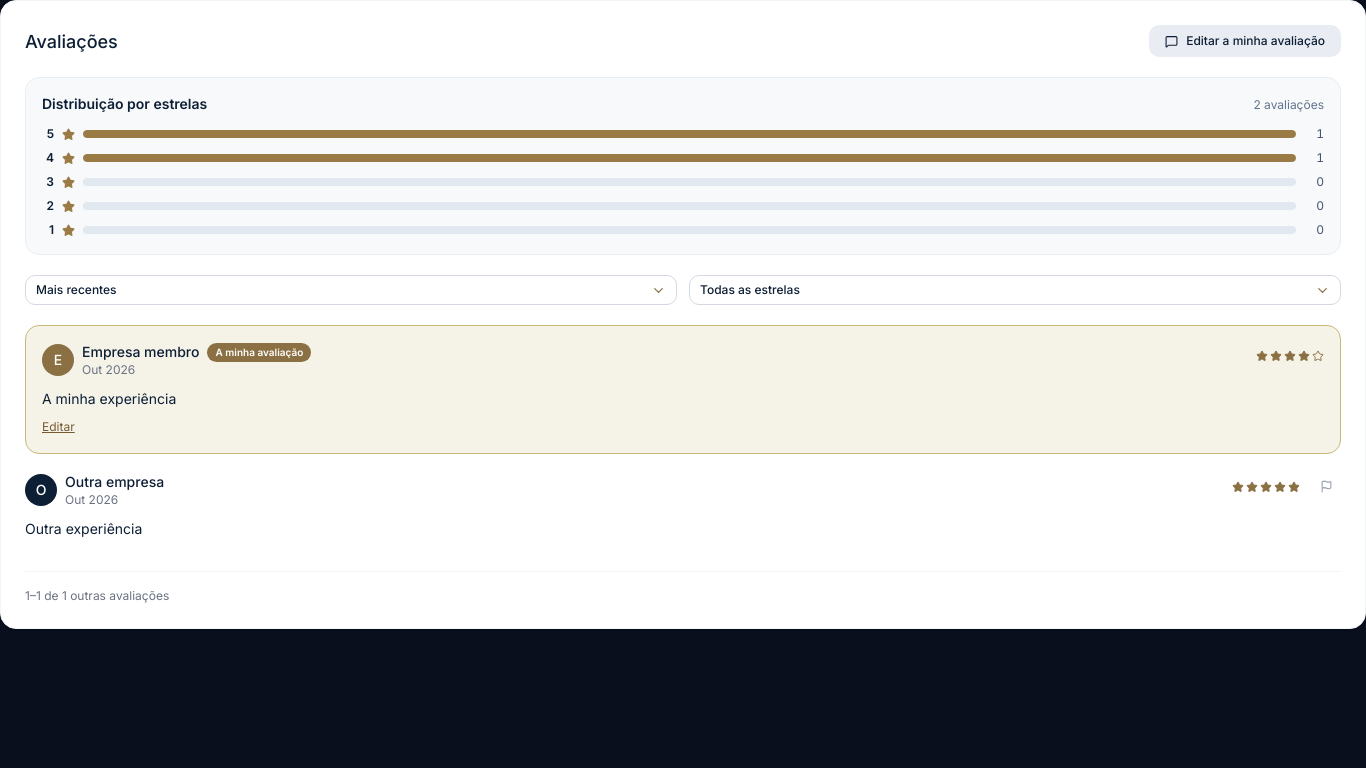
Test: Formulário de avaliação do perfil público › mantém a própria em primeiro ao filtrar e quando a leitura falha
The width and height of the screenshot is (1366, 768).
Expected: the text "A minha avaliação" is shown, [208,342,311,362]
Click the dropdown named "Filtrar por estrelas" at (750, 290), box [689,275,1341,305]
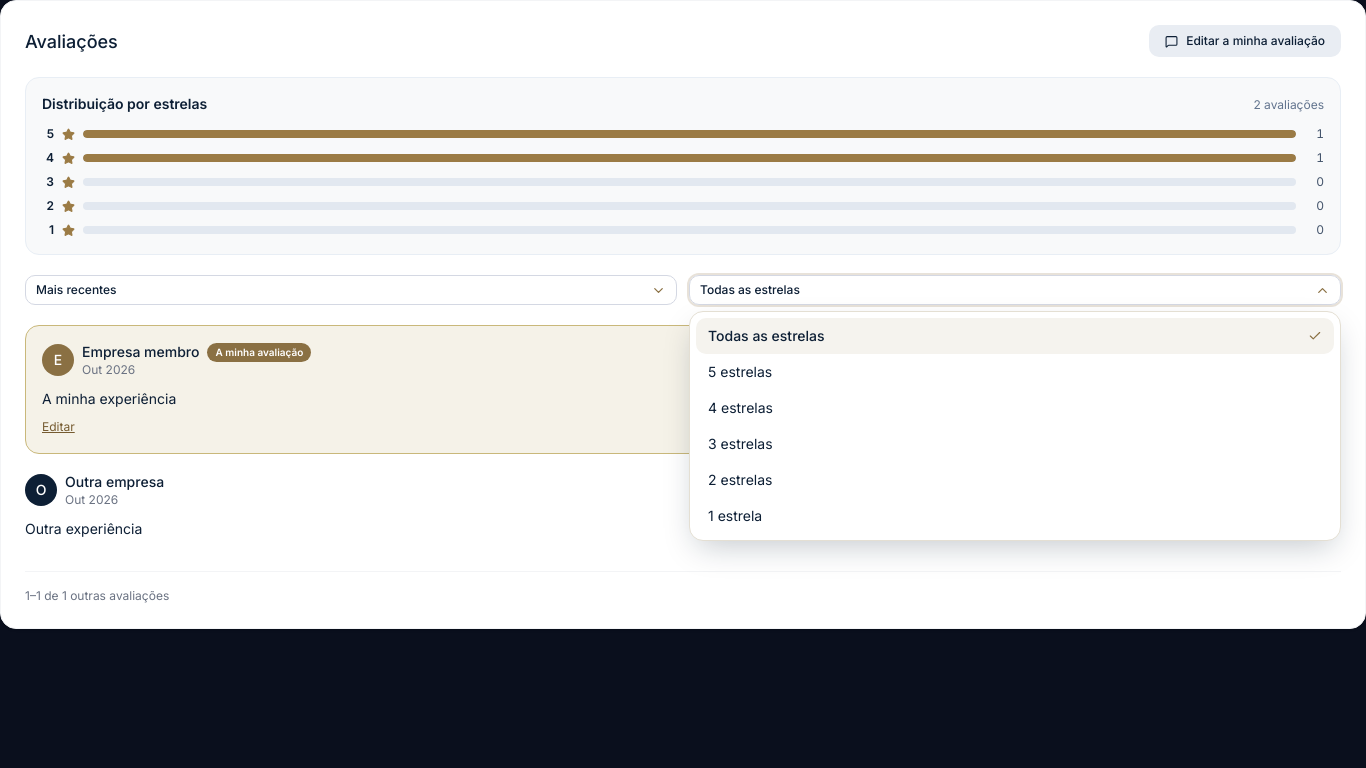
Click the option "5 estrelas" at (740, 372), box [708,363,772,380]
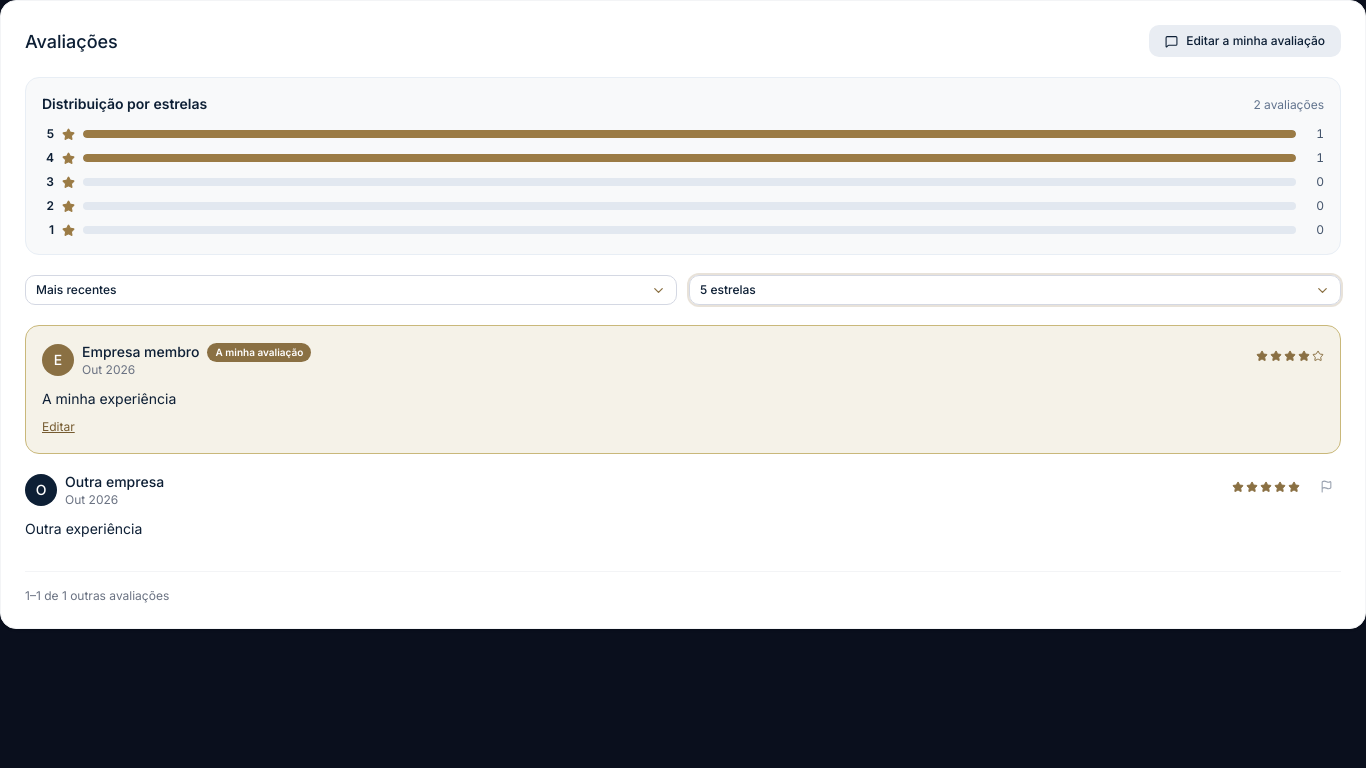
Expected: the button "Editar" is shown, [42,419,75,435]
Expected: the list item "A minha avaliação" is shown, [216,346,303,358]
Click the dropdown named "Ordenar avaliações" at (76, 290), box [25,275,677,305]
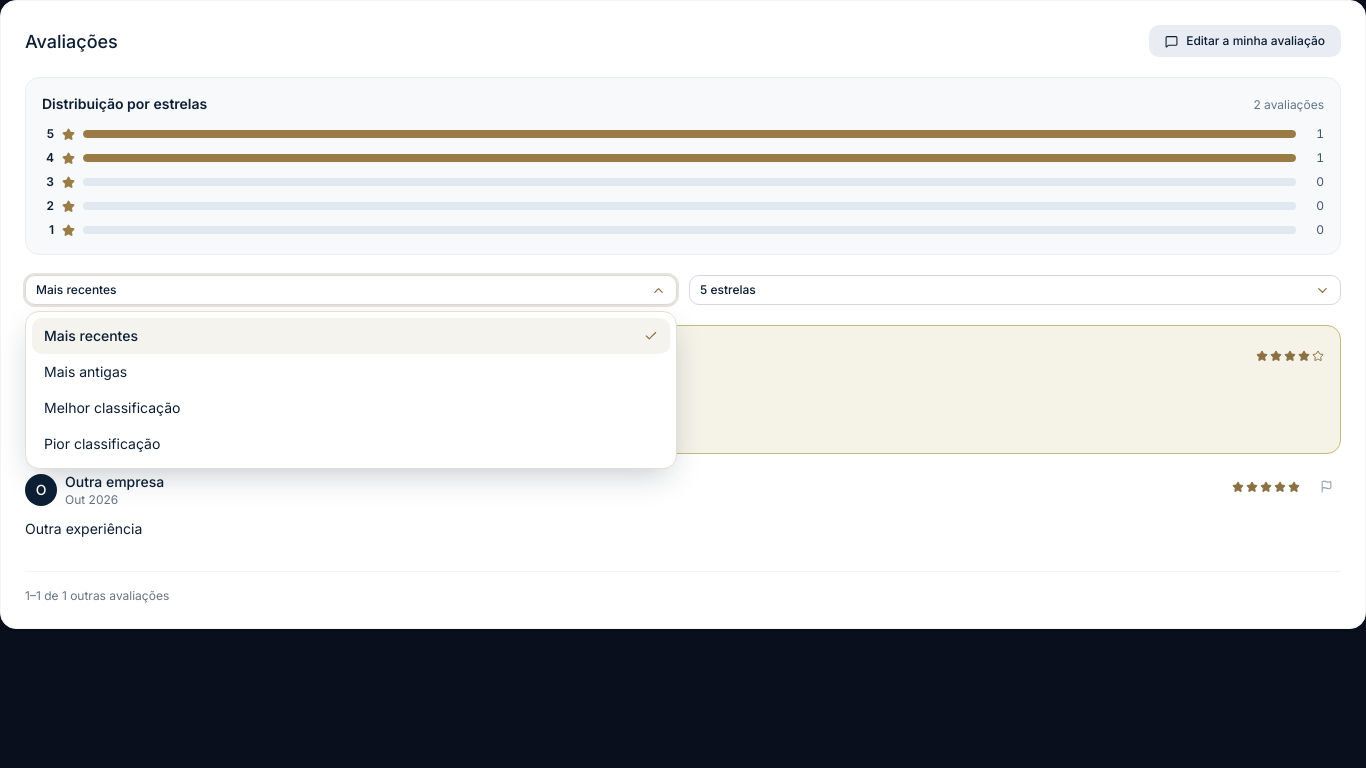
Click the option "Mais antigas" at (86, 372), box [44,363,127,380]
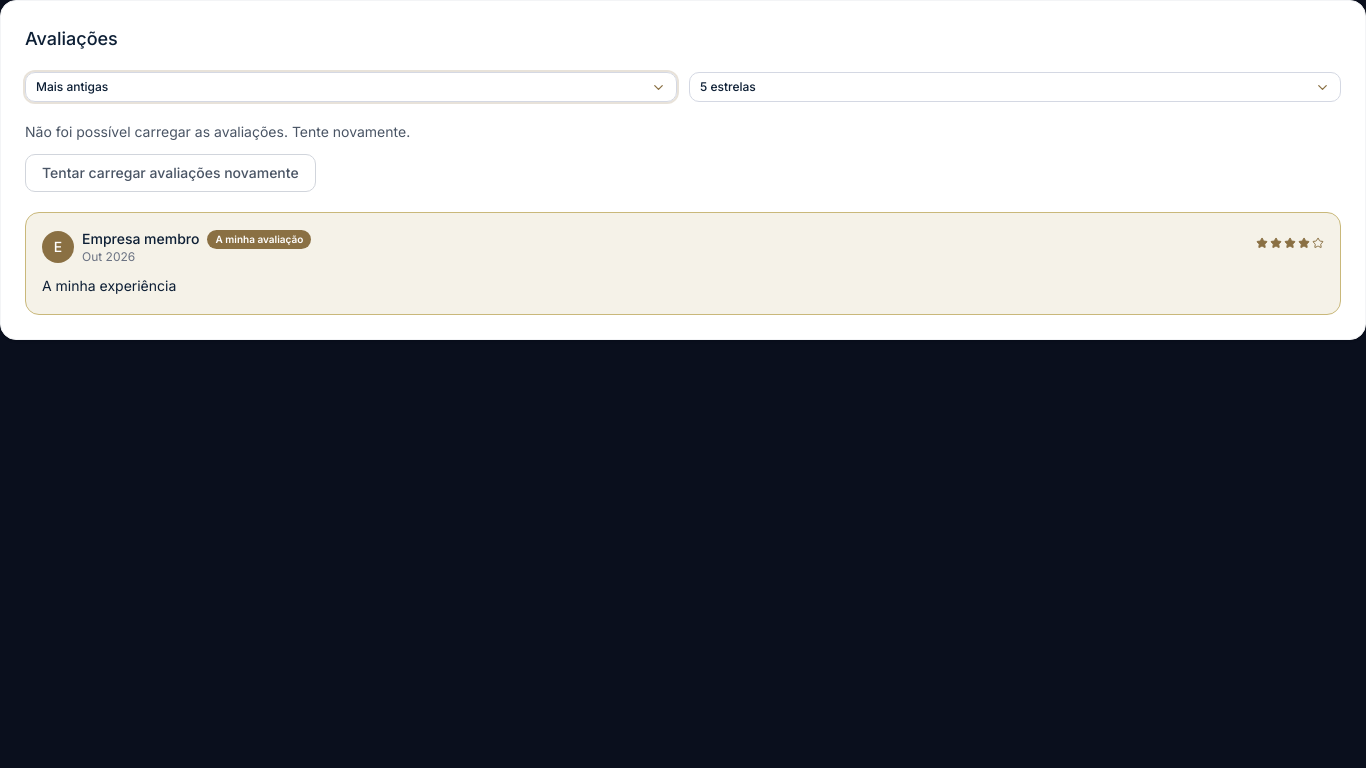
Expected: the text "A minha experiência" is shown, [42,277,176,294]
Now the message is shown, box [25,123,410,192]
